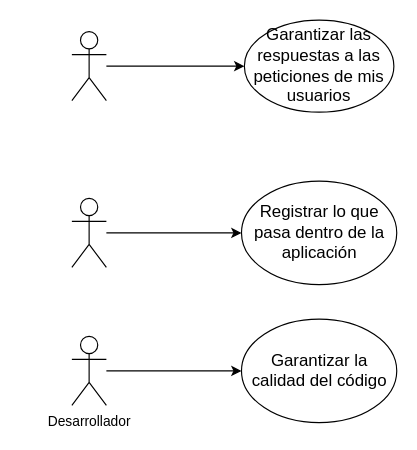
Image size: 417x450. Some labels were removed from this diagram. The box of each missing label's shape, as (x1, y1, x2, y2) in pixels:
Administrador: (71, 197, 106, 267)
Dueño de la aplicación: (71, 30, 106, 101)
